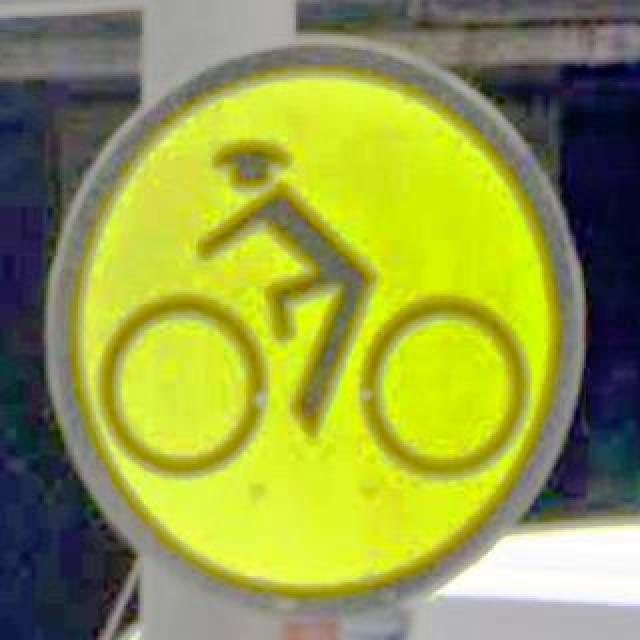bike lane: (44, 38, 582, 618)
